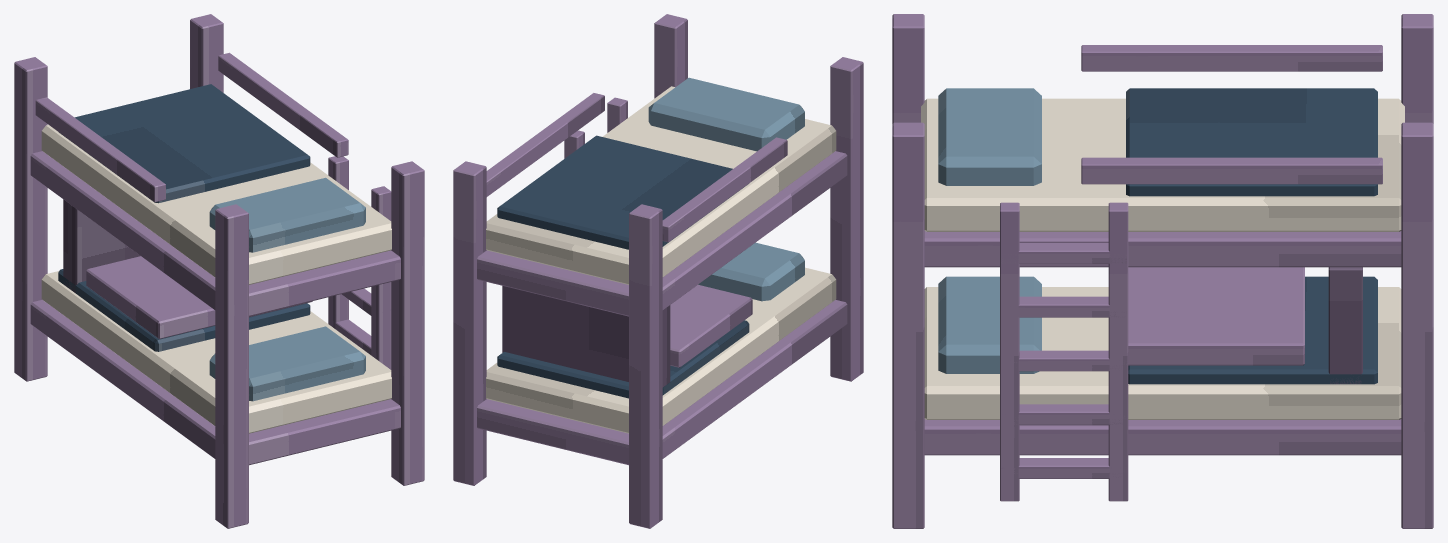
File: bunk_bed_loft.glb
The picture shows the model from 3 angles, left to right: view 1: azimuth 30°, elevation 25°; view 2: azimuth 150°, elevation 25°; view 3: azimuth 270°, elevation 25°; orthographic projection. The views are drawn at different scales.
Parts seen in each view (by area): view 1: Blanket_1, Mattress_1, Mattress_0, BedFrame_1, BedFrame_0, Post_-0.52_-1.03, Post_0.52_-1.03, Post_-0.52_1.03, Pillow_1, UnderBedDesk, Pillow_0, GuardRail_0.54 (+7 smaller); view 2: Mattress_1, Blanket_1, Mattress_0, BedFrame_1, BedFrame_0, Post_-0.52_1.03, Post_0.52_1.03, Post_-0.52_-1.03, UnderBedShelf, Pillow_1, UnderBedDesk, Pillow_0 (+5 smaller); view 3: Mattress_1, Mattress_0, Blanket_1, UnderBedDesk, BedFrame_0, BedFrame_1, Post_0.52_1.03, Post_0.52_-1.03, Pillow_1, GuardRail_0.54, Blanket_0, GuardRail_-0.54 (+11 smaller).
Part boxes in pixels (x1,y1,x2,y2): Blanket_1: (59,84,310,203); Mattress_1: (41,125,391,284); Mattress_0: (41,271,391,433); BedFrame_1: (30,151,400,316); BedFrame_0: (30,299,400,465); Post_-0.52_-1.03: (215,204,248,528); Post_0.52_-1.03: (391,161,424,485); Post_-0.52_1.03: (14,57,47,381); Pillow_1: (209,177,365,252); UnderBedDesk: (86,256,312,338); Pillow_0: (209,326,365,401); GuardRail_0.54: (218,52,348,157); Mattress_1: (486,86,836,284); Blanket_1: (497,135,747,249); Mattress_0: (486,267,836,433); BedFrame_1: (477,151,847,316); BedFrame_0: (477,299,847,465); Post_-0.52_1.03: (629,204,662,528); Post_0.52_1.03: (453,161,486,485); Post_-0.52_-1.03: (830,57,863,381); UnderBedShelf: (502,286,670,391); Pillow_1: (648,77,804,151); UnderBedDesk: (670,284,752,367); Pillow_0: (698,242,804,301); Mattress_1: (921,98,1404,231); Mattress_0: (924,287,1401,419); Blanket_1: (1126,88,1377,196); UnderBedDesk: (1128,267,1304,365); BedFrame_0: (924,419,1401,455); BedFrame_1: (924,231,1401,267); Post_0.52_1.03: (1401,122,1433,528); Post_0.52_-1.03: (892,122,924,528); Pillow_1: (938,88,1041,185); GuardRail_0.54: (1081,157,1382,184); Blanket_0: (1128,276,1377,384); GuardRail_-0.54: (1081,45,1382,71).
Size of the model in its own units: 1.23 by 1.76 by 2.19.
Materials: 1 (1 with a texture image).
